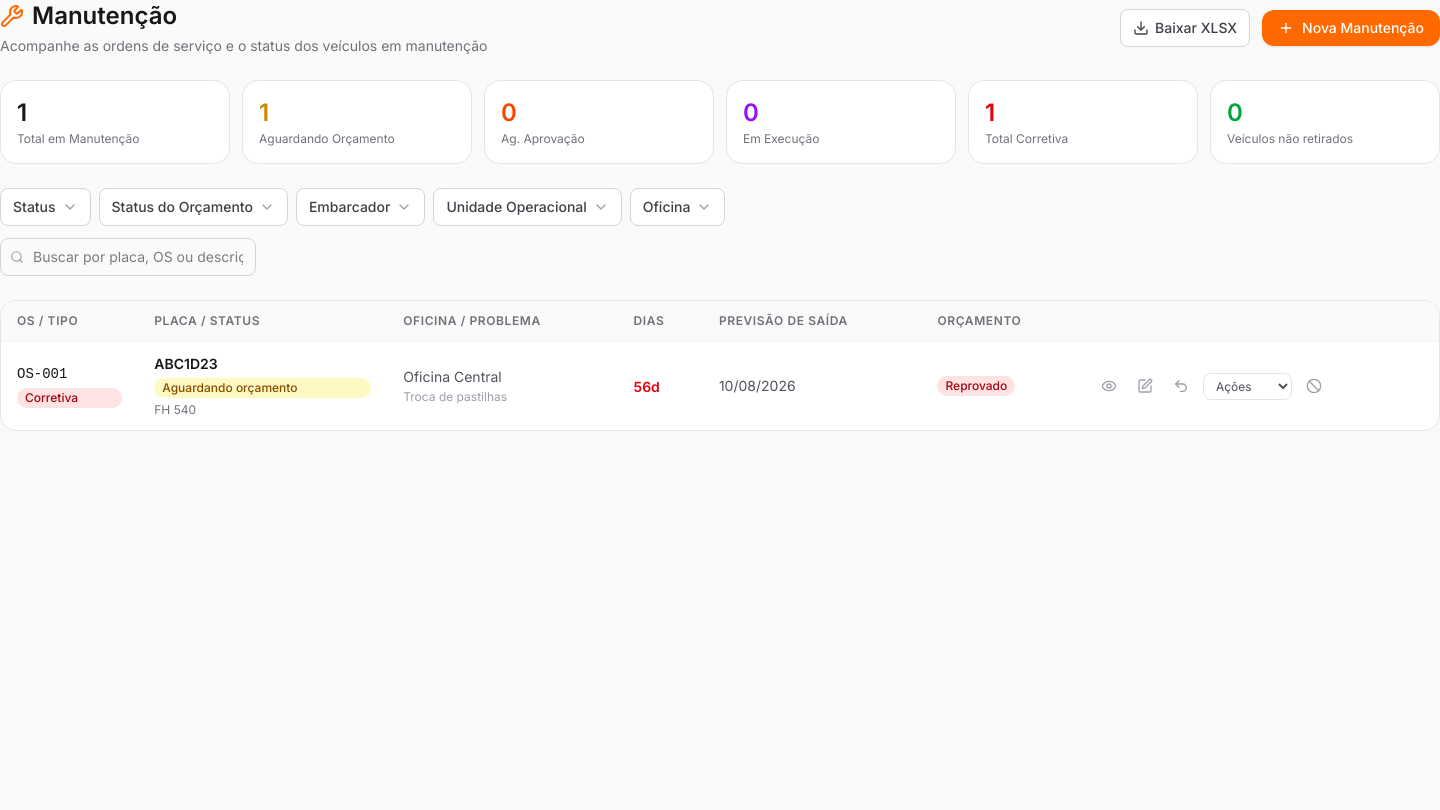
Maintenance — reabrir orçamento › edge case: o modal exibe o motivo da reprovação anterior
Click the button named "Reabrir orçamento": x=1181, y=386 [1167, 372, 1195, 400]
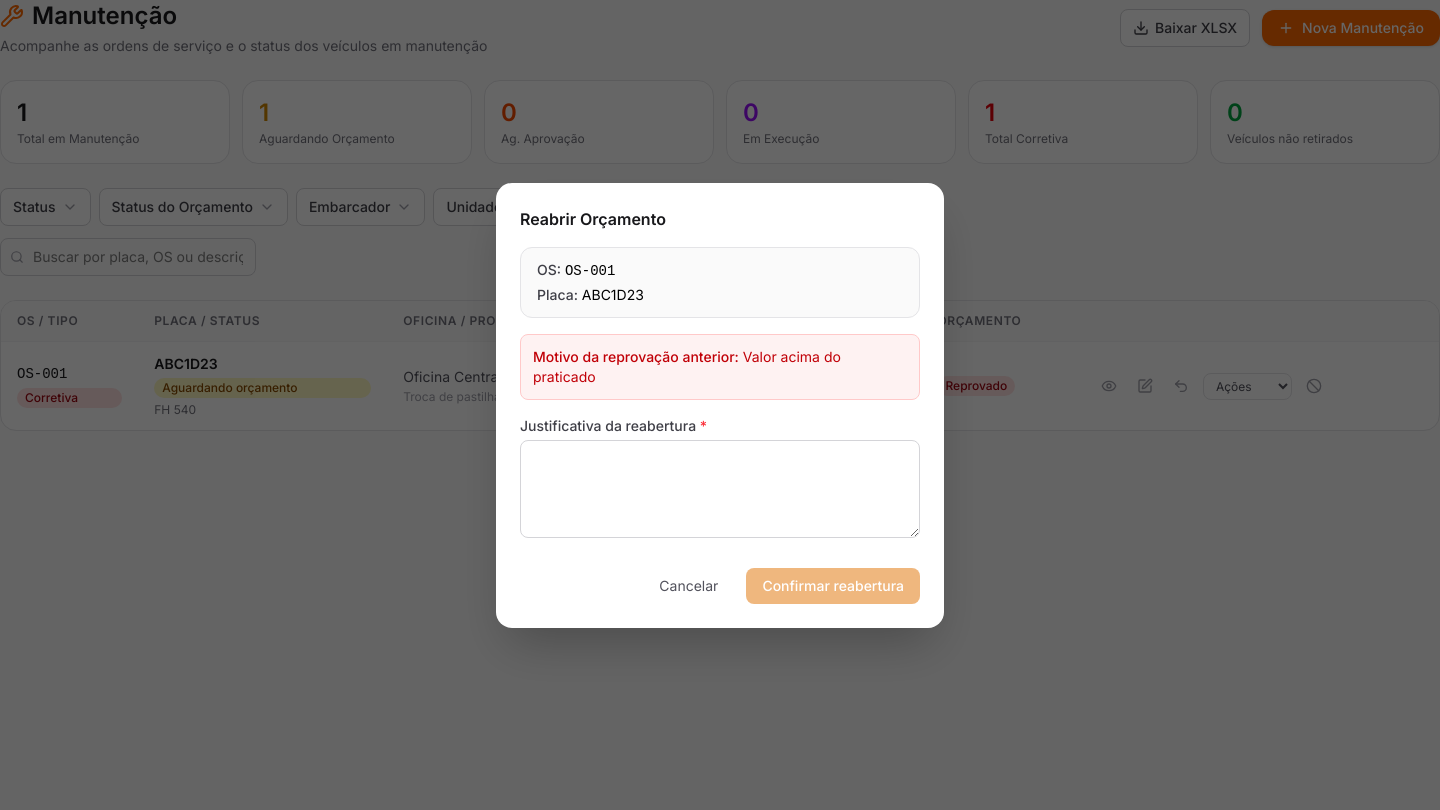
Now the text "Motivo da reprovação anterior:" is shown, box [533, 348, 739, 364]
Now the text "Valor acima do praticado" is shown, box [533, 348, 841, 384]
